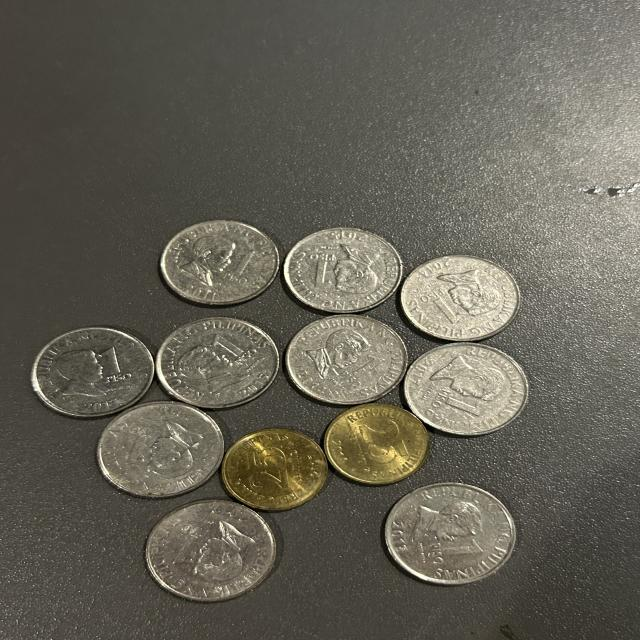1_Old_Front: (148, 505, 269, 592), (290, 229, 408, 314), (288, 318, 408, 396), (392, 496, 502, 580), (161, 222, 273, 303), (163, 325, 269, 408), (409, 259, 512, 343), (51, 326, 150, 410), (423, 348, 502, 420)
25Cent_Old_Front: (332, 408, 415, 489), (228, 437, 320, 503)
